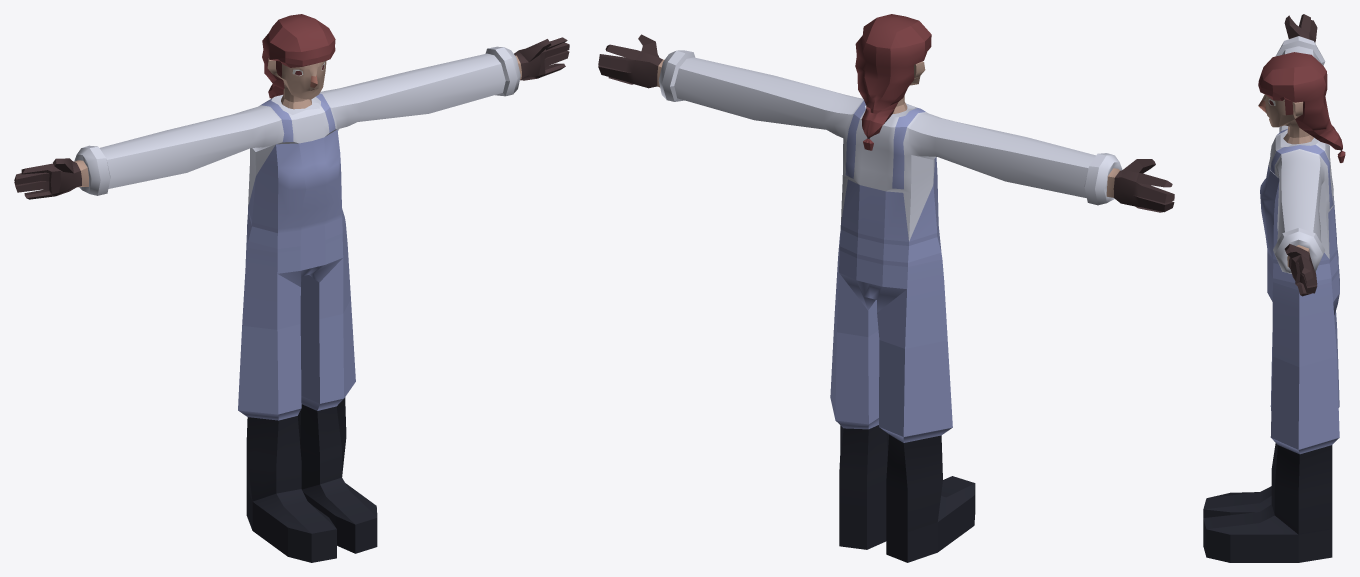
File: farmer_prototype.fbx
The picture shows the model from 3 angles, left to right: view 1: azimuth 30°, elevation 25°; view 2: azimuth 150°, elevation 25°; view 3: azimuth 270°, elevation 25°; orthographic projection. The views are drawn at different scales.
Visible parts, largest first — view 1: body; view 2: body; view 3: body.
Boxes of the visible parts, x1,y1,x2,y2 form: body: (14, 14, 569, 562); body: (598, 14, 1174, 562); body: (1203, 14, 1345, 562).
Bounding box in the file's own units: 13.64 × 11.8 × 3.14.
